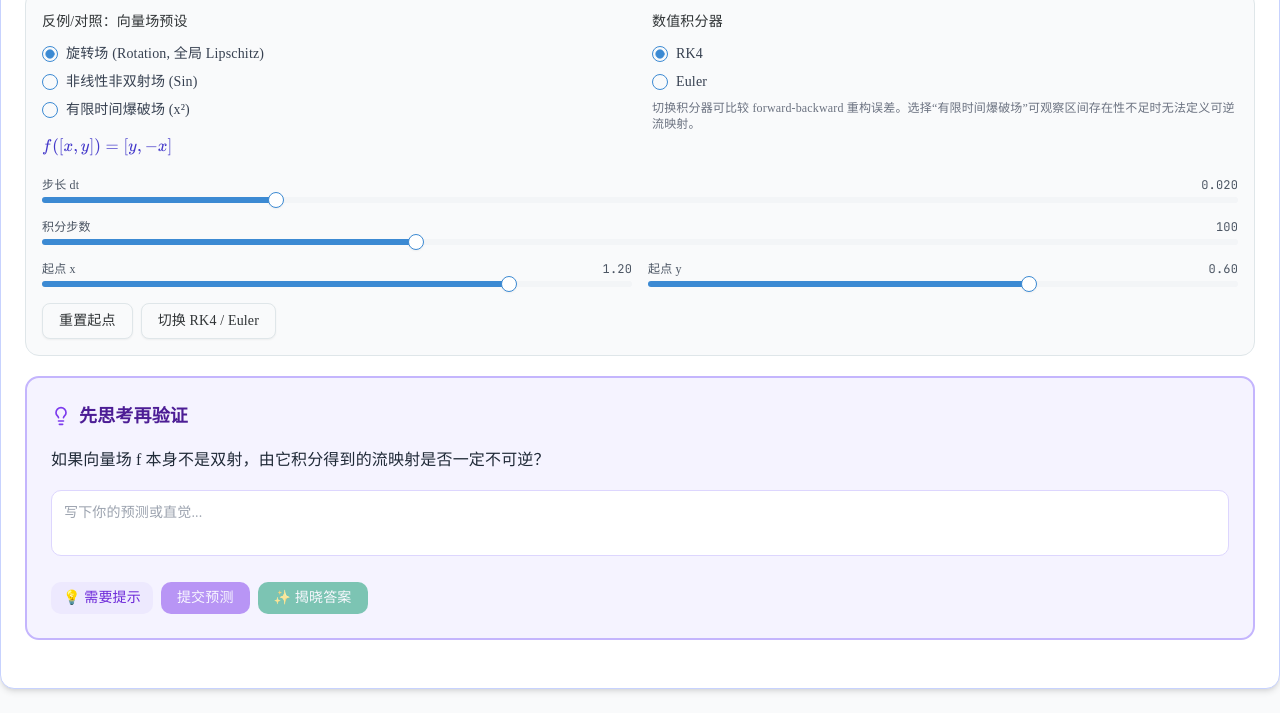
Scenario: chapter 15 normalizing flows teaching-ready loop › requires an explicit prediction before revealing the continuous-flow boundary
(page scrolled)
Expected: the text "答案：不一定" is not shown
Type "不一定" into the text box with placeholder "写下你的预测或直觉..." at (640, 523), box [51, 490, 1229, 556]
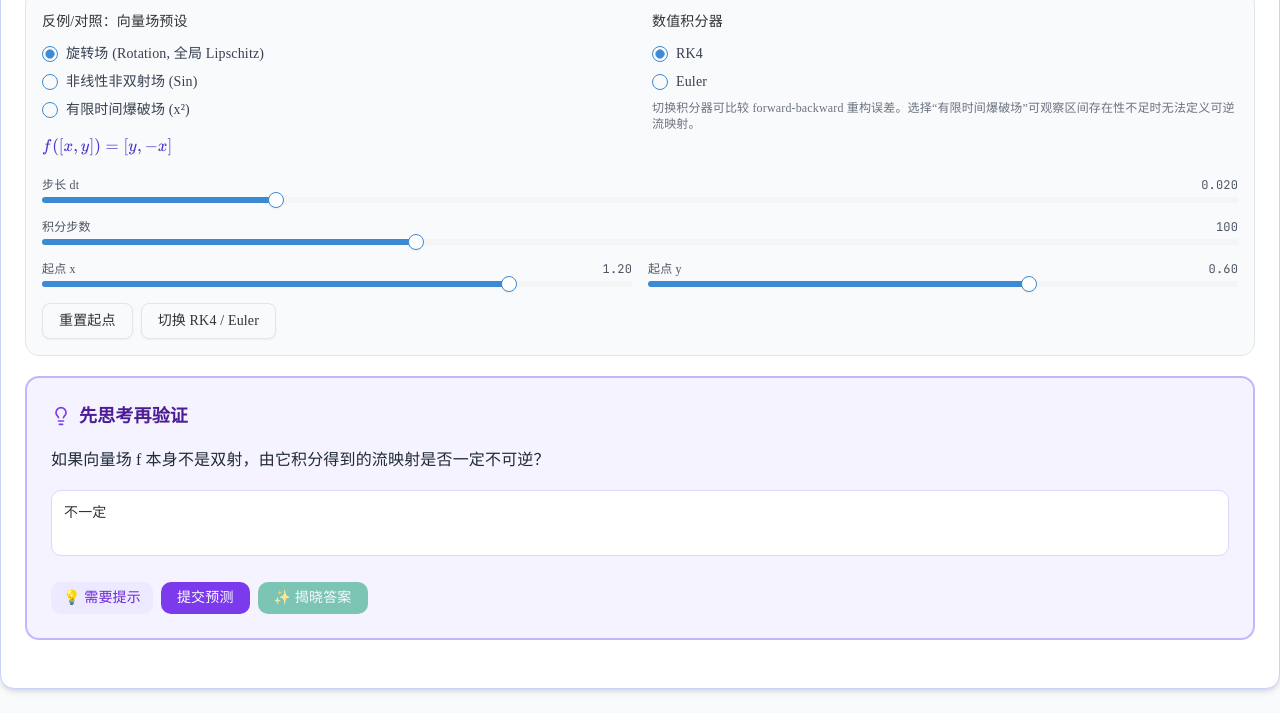
Click the button "提交预测" at (205, 598), box [161, 582, 250, 614]
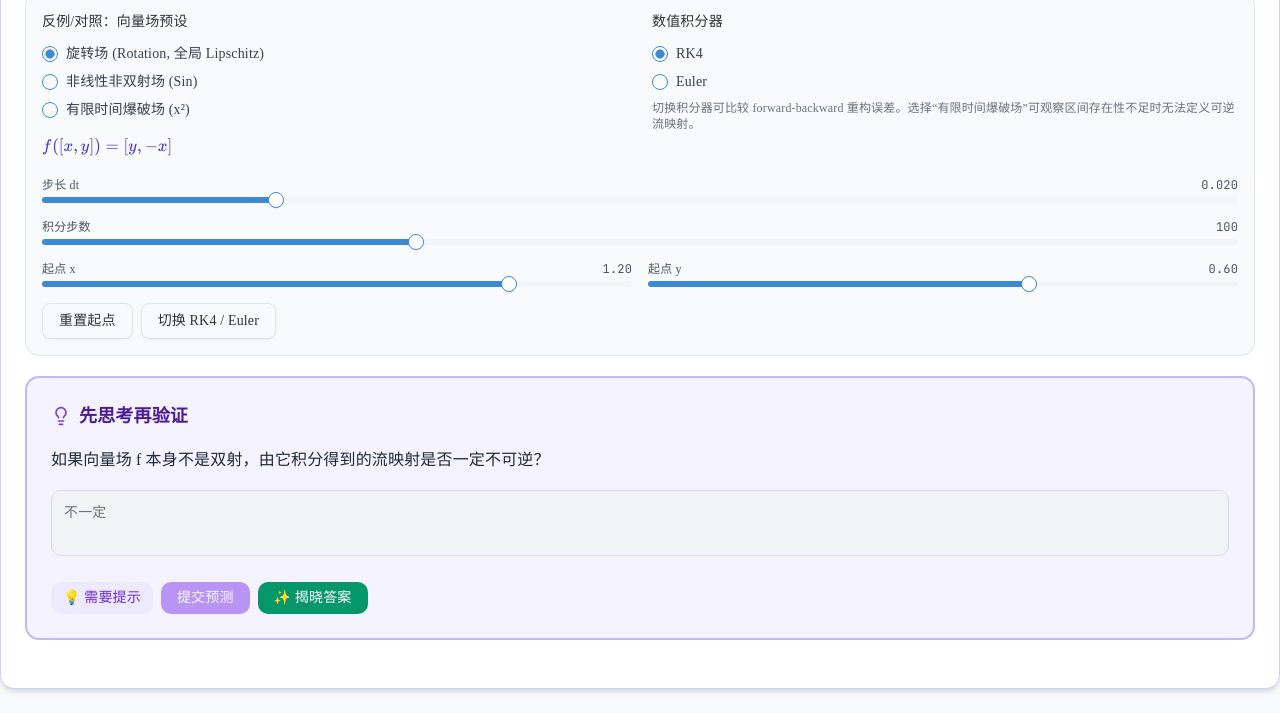
Click the button "✨ 揭晓答案" at (313, 598), box [258, 582, 368, 614]
(page scrolled)
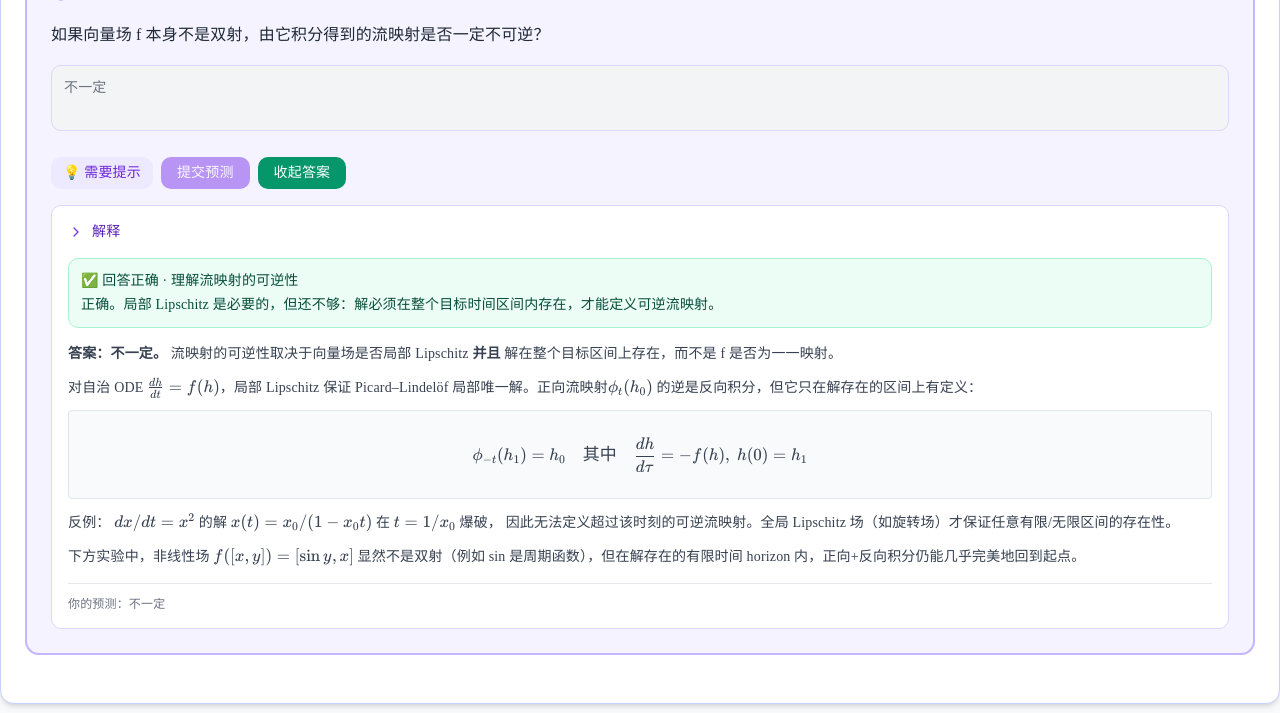
Expected: the element with test id "evaluation-feedback" shows "回答正确", [81, 273, 159, 288]
Expected: the text "答案：不一定。" is shown, [68, 346, 167, 361]
